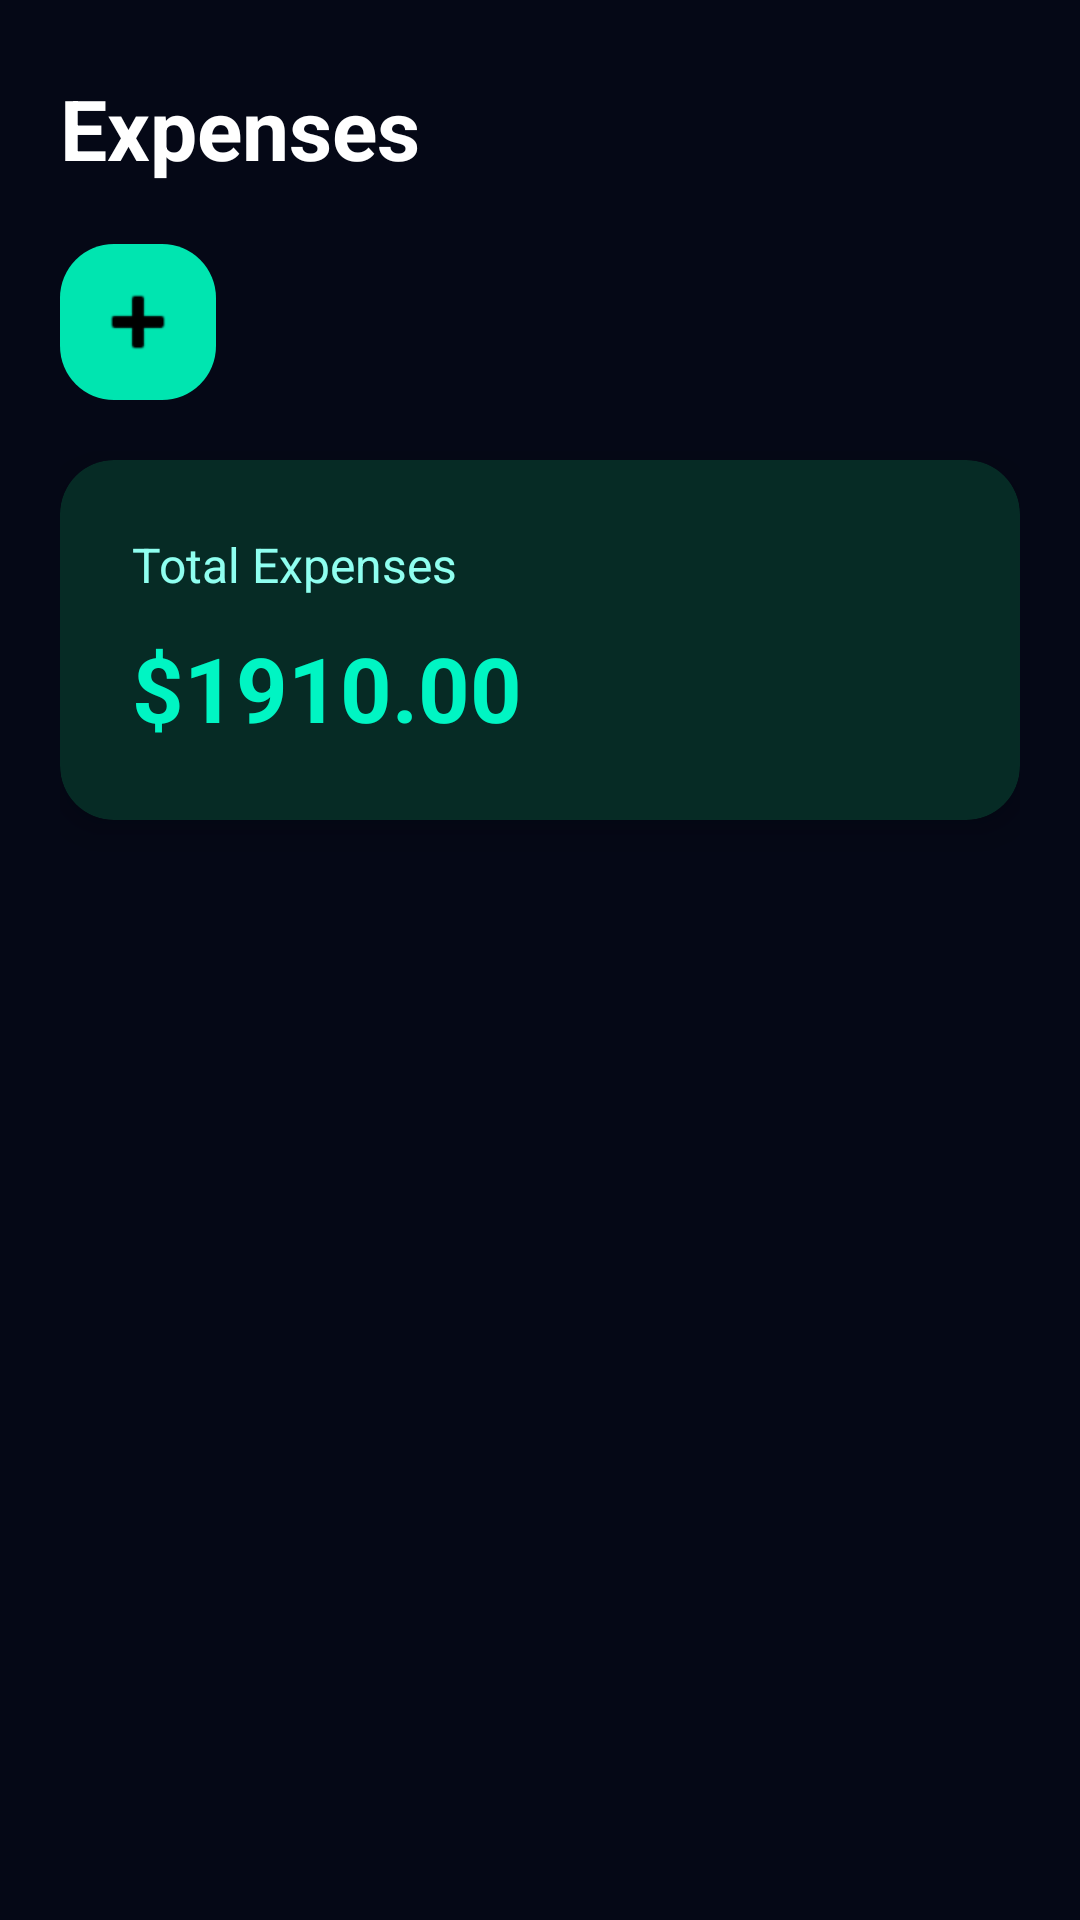

Icon click points for this 1080 x 1920 phone screenshot, format point (x, y):
Add Expense: point (138, 322)
